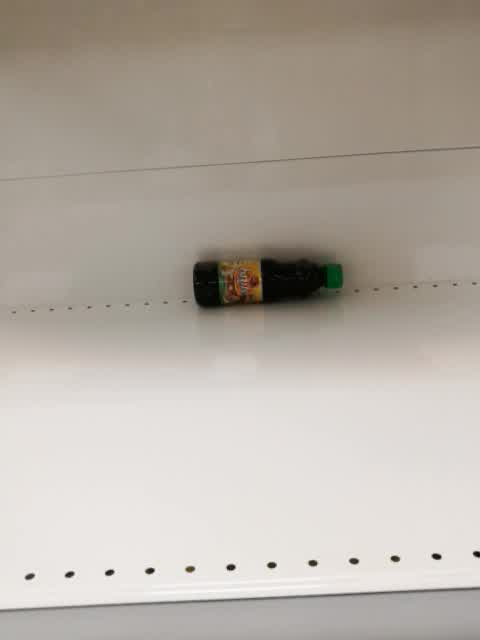cookingoil: (192, 254, 345, 309)
